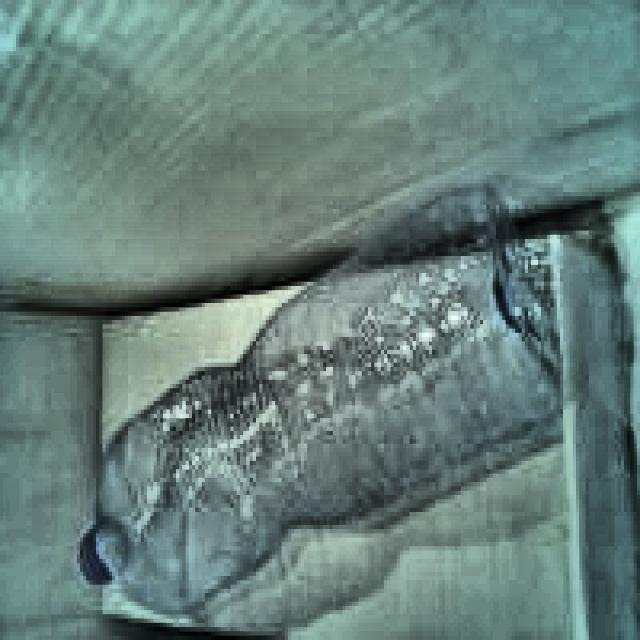plastic bottle: (83, 192, 563, 612)
